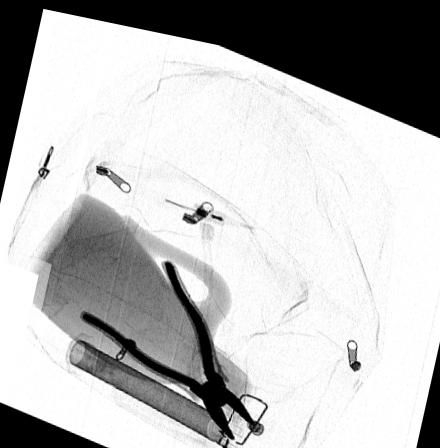Pliers: (78, 252, 258, 429)
